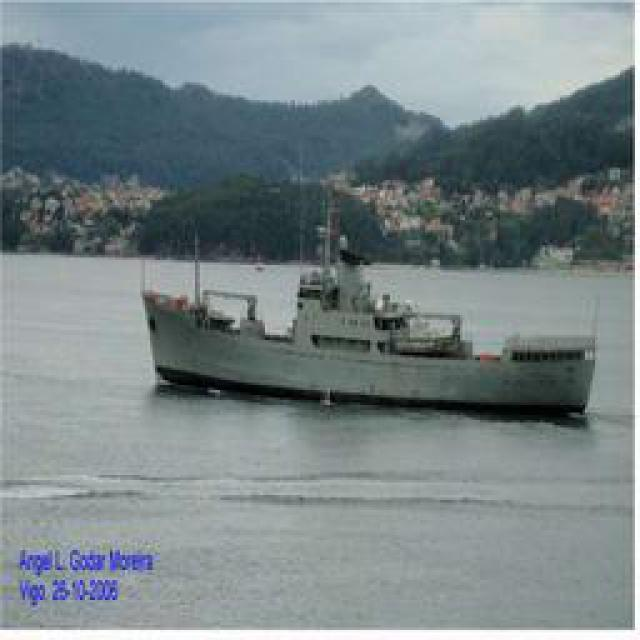Ship: (141, 278, 594, 416)
